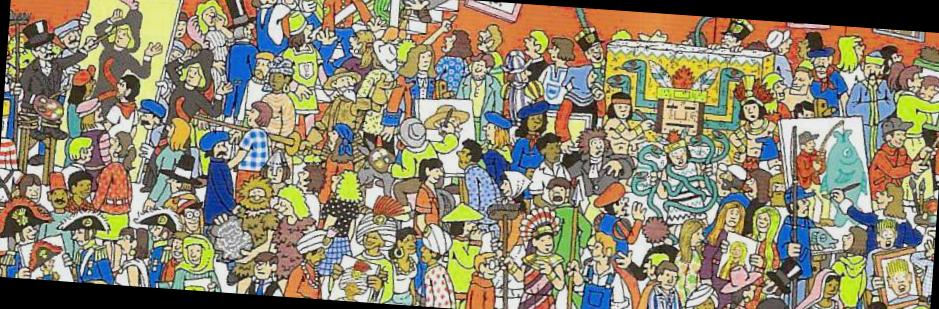waldo: (170, 196, 202, 231)
